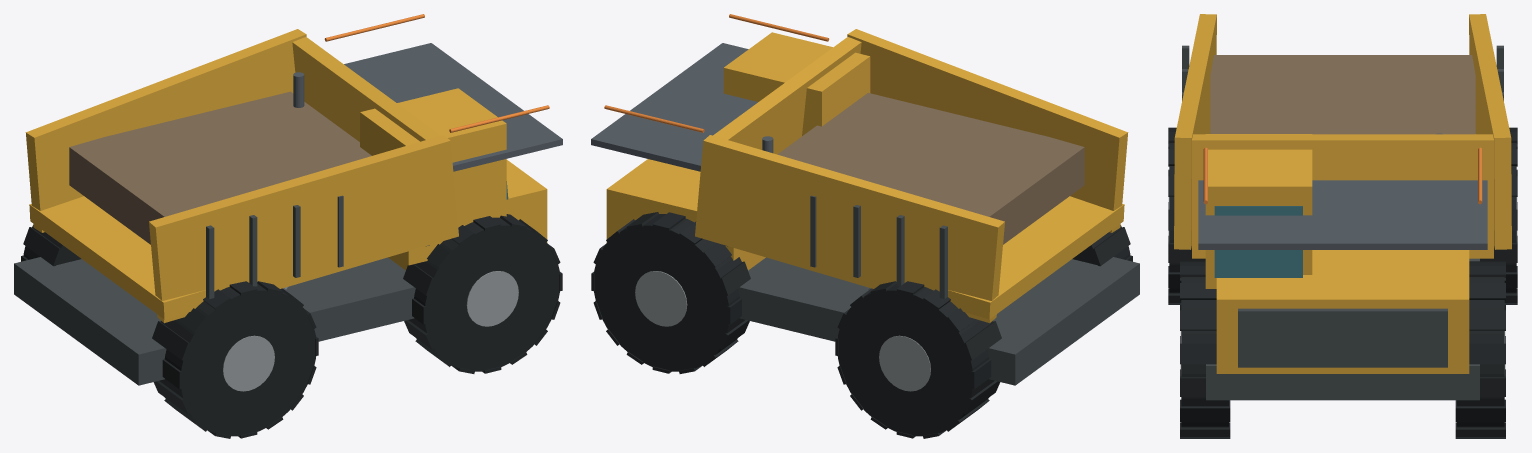
Rendered from HAUL-TRUCK.glb.
3 renders of one model, left to right at view 1: azimuth 30°, elevation 25°; view 2: azimuth 150°, elevation 25°; view 3: azimuth 270°, elevation 25°, orthographic. The views are drawn at different scales.
Visible parts, largest first — view 1: HAUL-TRUCK_DUMP_WALL_L, HAUL-TRUCK_ORE_LOAD, HAUL-TRUCK_CHASSIS, HAUL-TRUCK_DUMP_WALL_R, HAUL-TRUCK_WHEEL_SPIN_RL2_TIRE, HAUL-TRUCK_WHEEL_SPIN_FL_TIRE, HAUL-TRUCK_CAB, HAUL-TRUCK_FRONT_DECK, HAUL-TRUCK_DUMP_FLOOR, HAUL-TRUCK_DUMP_FRONT, HAUL-TRUCK_WHEEL_SPIN_FL, HAUL-TRUCK_WHEEL_SPIN_RL2 (+7 smaller); view 2: HAUL-TRUCK_DUMP_WALL_R, HAUL-TRUCK_ORE_LOAD, HAUL-TRUCK_CHASSIS, HAUL-TRUCK_WHEEL_SPIN_FR_TIRE, HAUL-TRUCK_WHEEL_SPIN_RR2_TIRE, HAUL-TRUCK_DUMP_WALL_L, HAUL-TRUCK_FRONT_DECK, HAUL-TRUCK_DUMP_FLOOR, HAUL-TRUCK_CAB, HAUL-TRUCK_ENGINE_DECK, HAUL-TRUCK_DUMP_FRONT, HAUL-TRUCK_WHEEL_SPIN_FR (+7 smaller); view 3: HAUL-TRUCK_ORE_LOAD, HAUL-TRUCK_ENGINE_DECK, HAUL-TRUCK_FRONT_DECK, HAUL-TRUCK_RADIATOR, HAUL-TRUCK_DUMP_FRONT, HAUL-TRUCK_CHASSIS, HAUL-TRUCK_CAB, HAUL-TRUCK_DUMP_WALL_R, HAUL-TRUCK_DUMP_WALL_L, HAUL-TRUCK_WHEEL_SPIN_FR, HAUL-TRUCK_WHEEL_SPIN_FL, HAUL-TRUCK_WINDSHIELD (+6 smaller).
Boxes of the visible parts, x1,y1,x2,y2 form: HAUL-TRUCK_DUMP_WALL_L: [149, 135, 458, 323]; HAUL-TRUCK_ORE_LOAD: [69, 91, 371, 244]; HAUL-TRUCK_CHASSIS: [14, 257, 415, 385]; HAUL-TRUCK_DUMP_WALL_R: [25, 29, 306, 232]; HAUL-TRUCK_WHEEL_SPIN_RL2_TIRE: [167, 284, 316, 436]; HAUL-TRUCK_WHEEL_SPIN_FL_TIRE: [409, 217, 559, 371]; HAUL-TRUCK_CAB: [360, 88, 506, 265]; HAUL-TRUCK_FRONT_DECK: [344, 43, 562, 171]; HAUL-TRUCK_DUMP_FLOOR: [29, 196, 205, 319]; HAUL-TRUCK_DUMP_FRONT: [292, 37, 440, 141]; HAUL-TRUCK_WHEEL_SPIN_FL: [403, 214, 562, 373]; HAUL-TRUCK_WHEEL_SPIN_RL2: [163, 281, 318, 438]; HAUL-TRUCK_DUMP_WALL_R: [695, 135, 1004, 323]; HAUL-TRUCK_ORE_LOAD: [777, 93, 1084, 244]; HAUL-TRUCK_CHASSIS: [738, 257, 1139, 385]; HAUL-TRUCK_WHEEL_SPIN_FR_TIRE: [594, 214, 744, 371]; HAUL-TRUCK_WHEEL_SPIN_RR2_TIRE: [837, 284, 987, 436]; HAUL-TRUCK_DUMP_WALL_L: [847, 29, 1128, 232]; HAUL-TRUCK_FRONT_DECK: [591, 43, 757, 171]; HAUL-TRUCK_DUMP_FLOOR: [948, 196, 1124, 319]; HAUL-TRUCK_CAB: [723, 32, 870, 135]; HAUL-TRUCK_ENGINE_DECK: [606, 159, 765, 270]; HAUL-TRUCK_DUMP_FRONT: [713, 37, 861, 154]; HAUL-TRUCK_WHEEL_SPIN_FR: [591, 212, 750, 373]; HAUL-TRUCK_ORE_LOAD: [1210, 55, 1475, 134]; HAUL-TRUCK_ENGINE_DECK: [1216, 250, 1469, 373]; HAUL-TRUCK_FRONT_DECK: [1198, 180, 1487, 249]; HAUL-TRUCK_RADIATOR: [1238, 308, 1447, 367]; HAUL-TRUCK_DUMP_FRONT: [1192, 134, 1493, 258]; HAUL-TRUCK_CHASSIS: [1206, 258, 1479, 400]; HAUL-TRUCK_CAB: [1205, 134, 1312, 288]; HAUL-TRUCK_DUMP_WALL_R: [1469, 14, 1511, 249]; HAUL-TRUCK_DUMP_WALL_L: [1174, 14, 1216, 249]; HAUL-TRUCK_WHEEL_SPIN_FR: [1455, 261, 1505, 438]; HAUL-TRUCK_WHEEL_SPIN_FL: [1180, 261, 1230, 438]; HAUL-TRUCK_WINDSHIELD: [1214, 206, 1302, 277].
Size of the model in its own units: 8.78 by 4.86 by 5.73.
